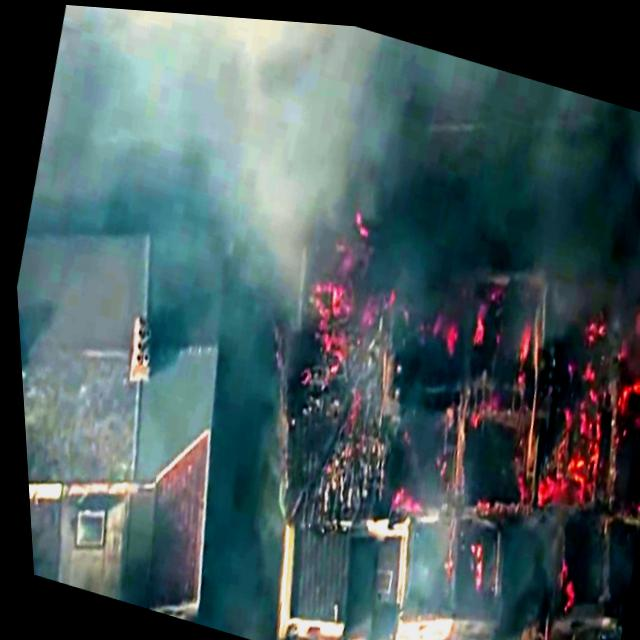fire: (587, 247, 640, 406)
smoke: (58, 3, 421, 132)
